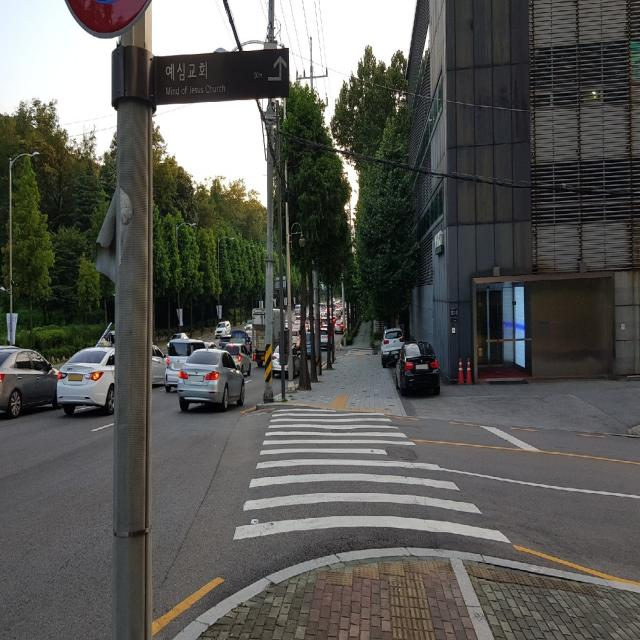횡단보도: (233, 408, 513, 545)
